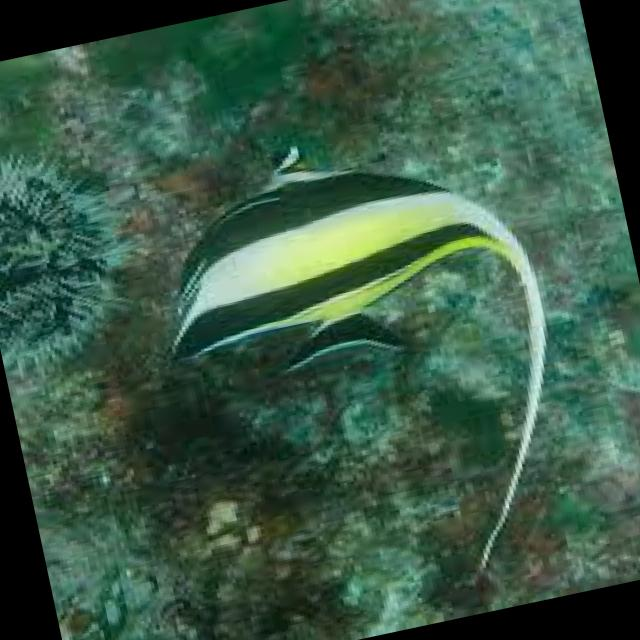MorishIdol: (127, 97, 602, 640)
